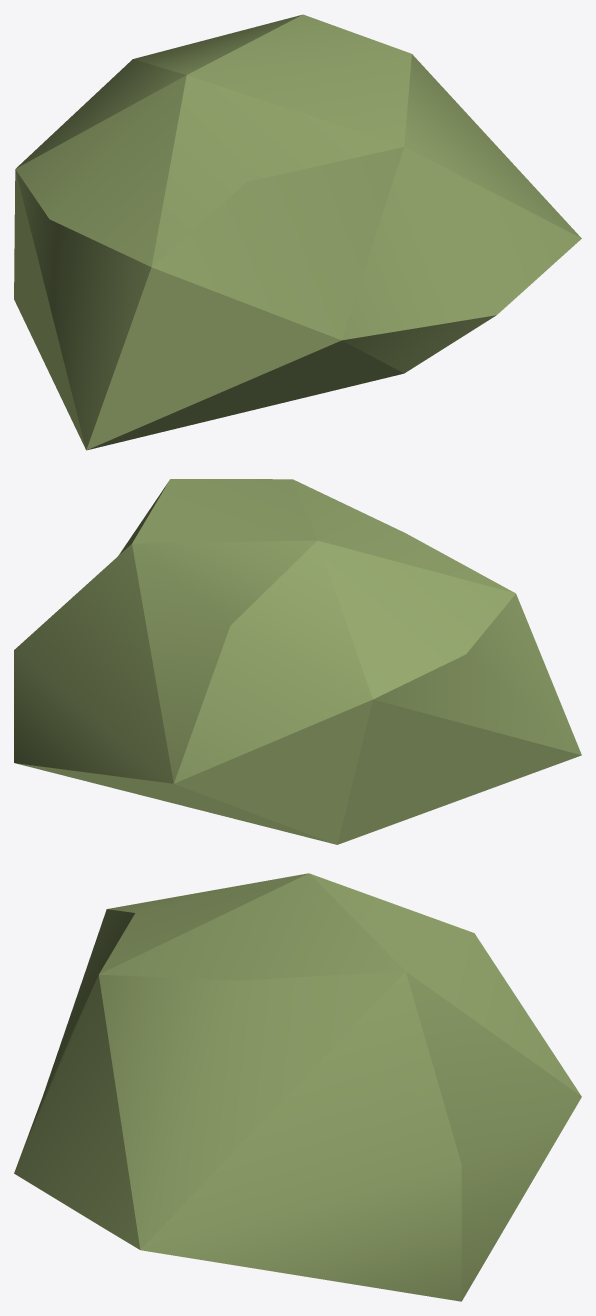
The model's file is buisson_tuto.fbx.
3 renders of one model, top to bottom at view 1: azimuth 30°, elevation 25°; view 2: azimuth 150°, elevation 25°; view 3: azimuth 270°, elevation 25°, orthographic. The views are drawn at different scales.
Parts seen in each view (by area): view 1: pPlatonic2; view 2: pPlatonic2; view 3: pPlatonic2.
Boxes of the visible parts, left/top/right/bottom form: pPlatonic2: left=14, top=14, right=581, bottom=450; pPlatonic2: left=14, top=479, right=581, bottom=844; pPlatonic2: left=14, top=873, right=581, bottom=1301.
Size of the model in its own units: 1.62 by 0.7776 by 1.4.
